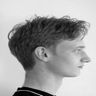ear: (31, 43, 54, 66)
